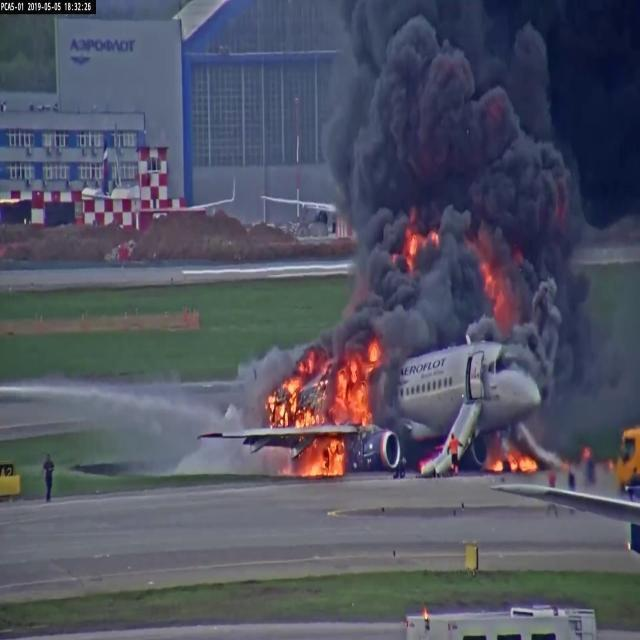Fire: (336, 350, 381, 423), (311, 448, 348, 477)
Smoke: (348, 11, 589, 250)
